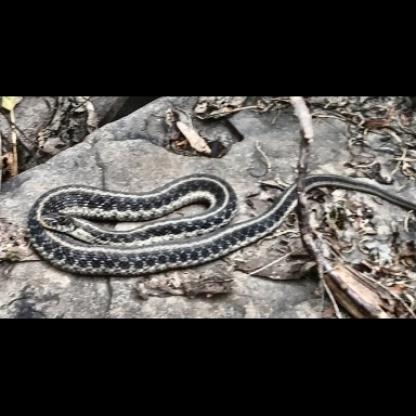Snake: (23, 169, 416, 279)
